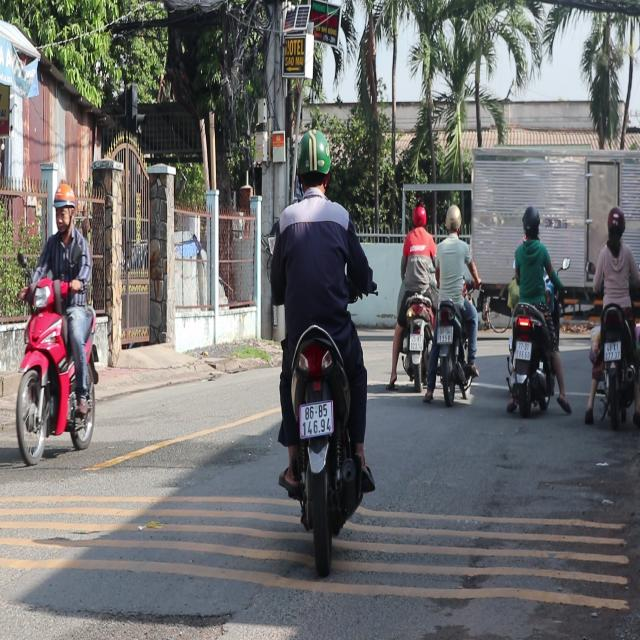helmet: (292, 128, 332, 197), (51, 182, 76, 233), (604, 205, 625, 245), (520, 204, 540, 239), (444, 204, 460, 234), (409, 202, 426, 230)
licenseplate: (266, 121, 377, 562), (12, 180, 102, 464), (503, 203, 566, 416), (586, 204, 640, 426), (429, 202, 479, 404), (387, 201, 434, 393)
nohelmet: (299, 401, 333, 437), (514, 340, 532, 360), (604, 340, 620, 359), (437, 326, 453, 344), (410, 334, 422, 350)
